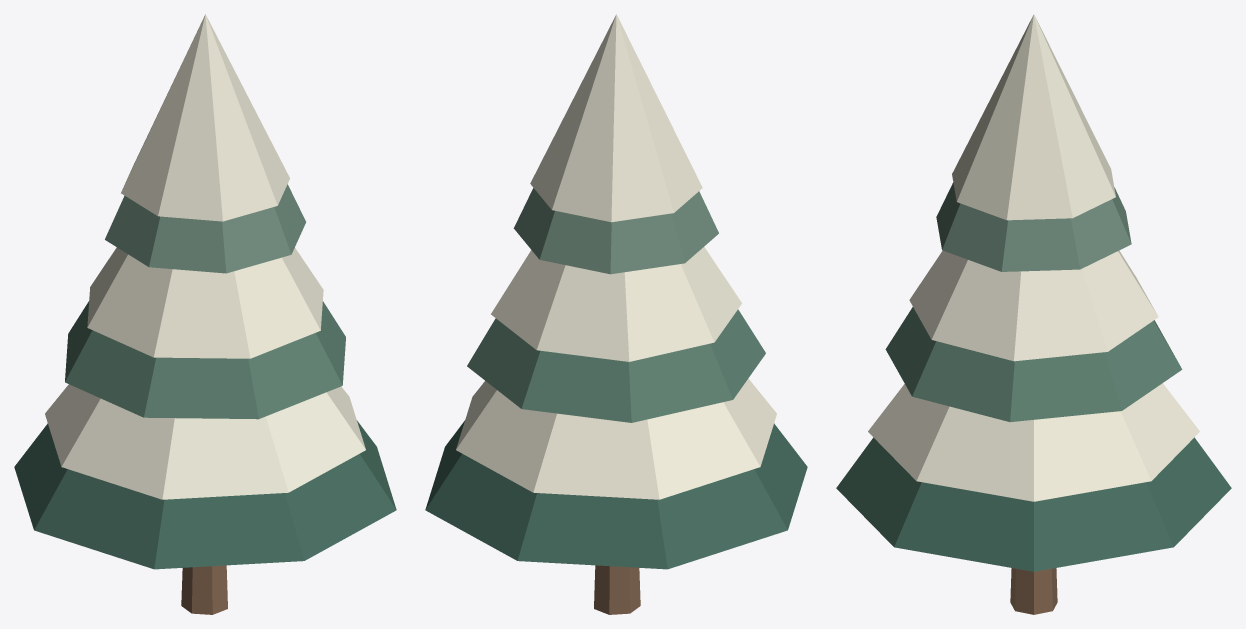
The model's file is pine-tall.glb.
3 views of the same model, side by side, from view 1: azimuth 30°, elevation 25°; view 2: azimuth 150°, elevation 25°; view 3: azimuth 270°, elevation 25° (orthographic).
Parts seen in each view (by area): view 1: pine-tall; view 2: pine-tall; view 3: pine-tall.
Part boxes in pixels (box(x1,y1,x2,y2)): pine-tall: box(14, 14, 396, 614); pine-tall: box(425, 14, 807, 614); pine-tall: box(836, 14, 1231, 614).
Bounding box in the file's own units: 3.1 × 5.11 × 3.1.
